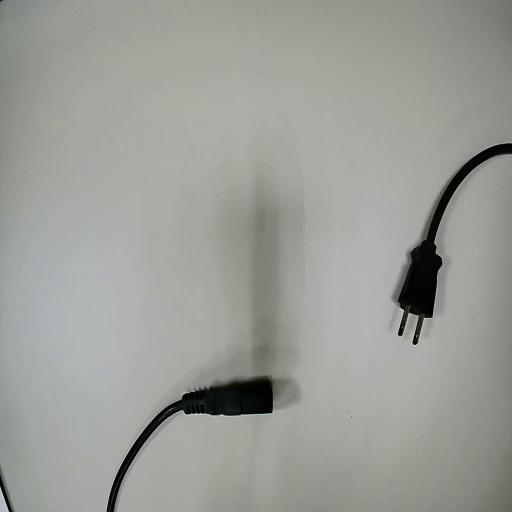wire: (398, 144, 511, 342), (108, 378, 272, 511)
